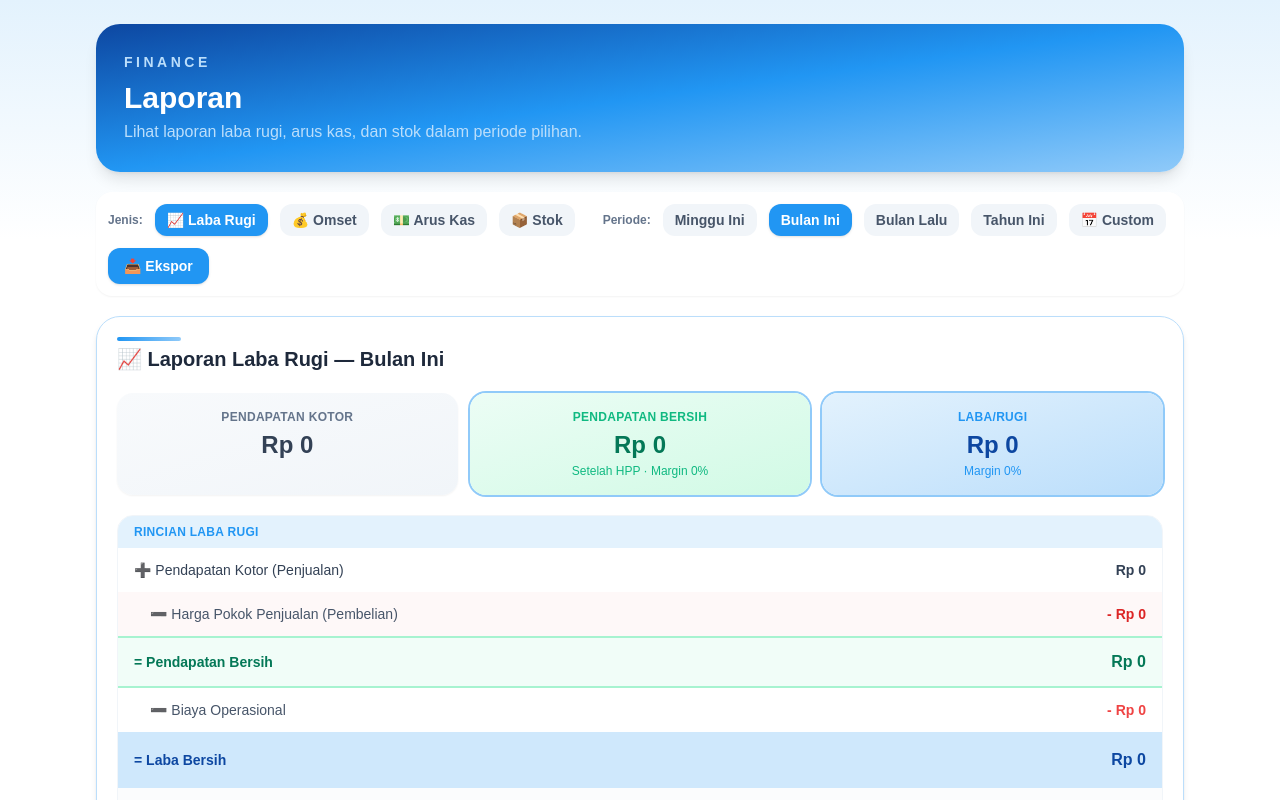
Scenario: LaporanPage › switches to Laporan Stok
What coordinates should you click on to do the following:
click the button "📦 Stok"
I would click on:
 (537, 220)
Its box is [499,204,575,236].
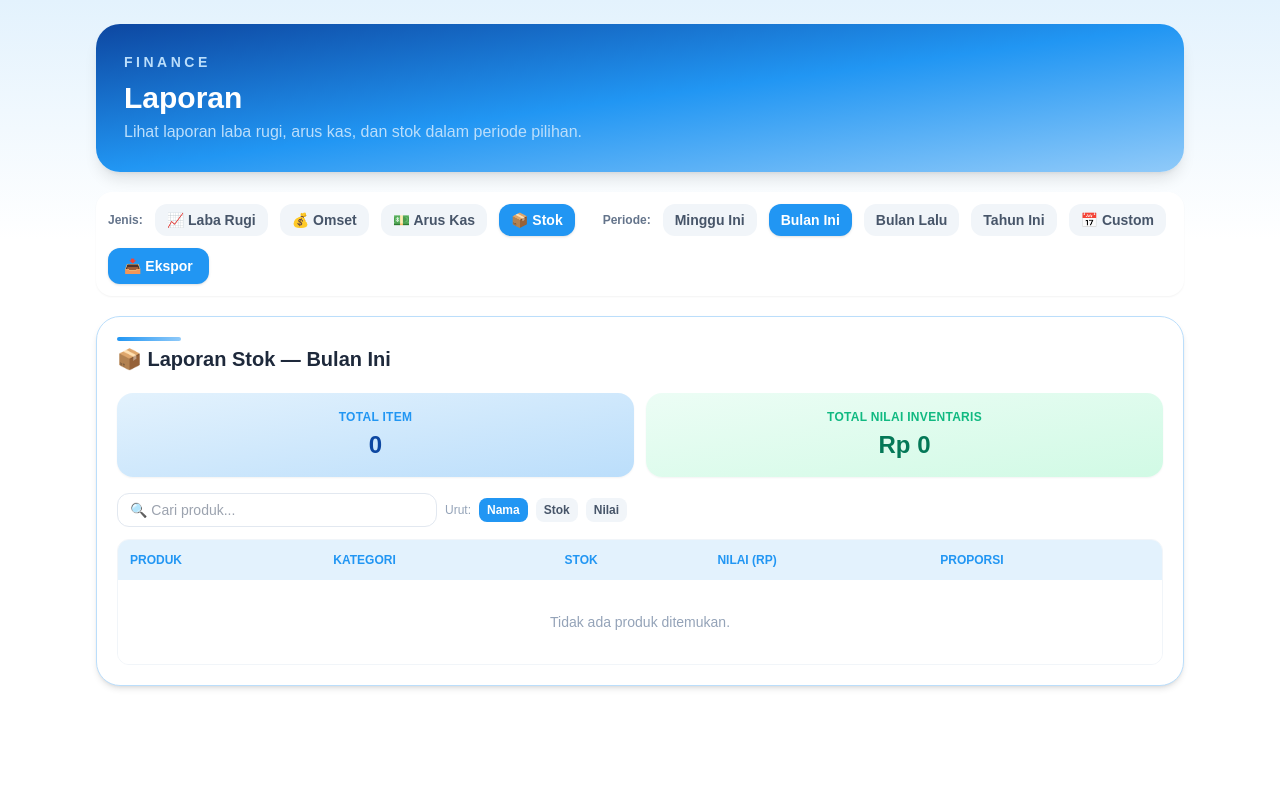
Expected: the text "Total Item" is shown, [339,410,412,424]
Expected: the text "Total Nilai Inventaris" is shown, [827,410,982,424]
